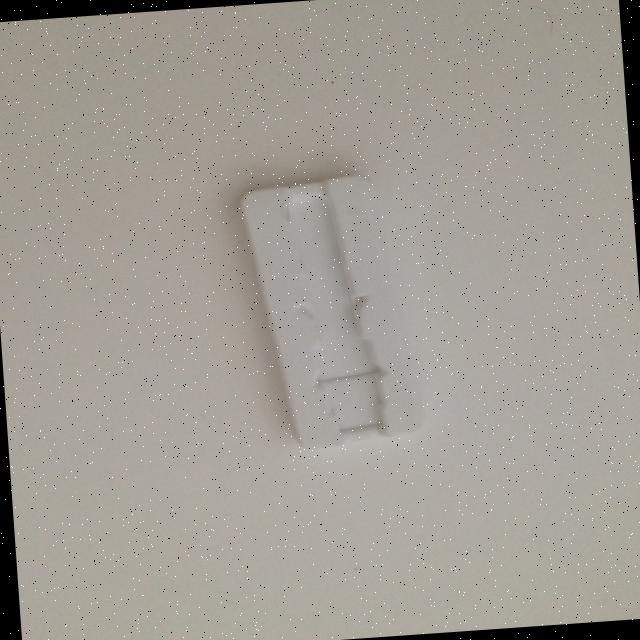plastic: (236, 170, 414, 452)
